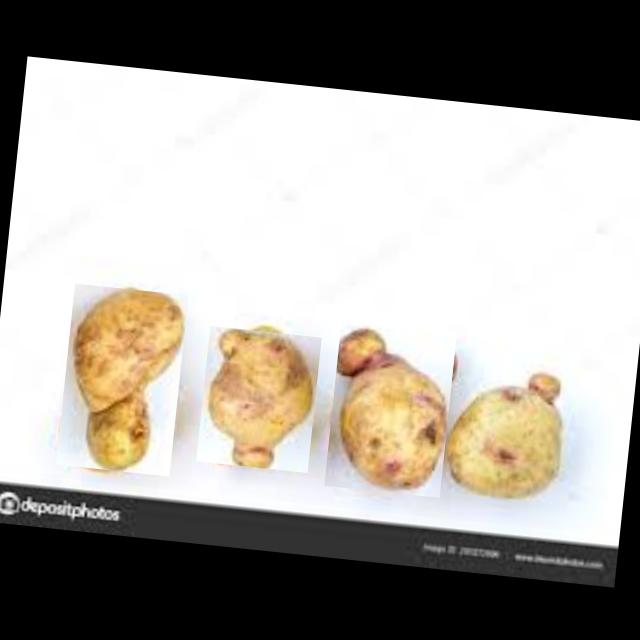Damaged potato: (54, 282, 188, 476), (323, 317, 456, 496), (444, 349, 574, 504), (194, 324, 320, 472)
